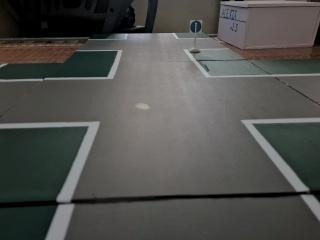straight: (186, 15, 207, 38)
